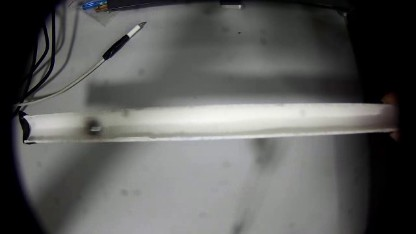gangzhu: (81, 114, 103, 137)
